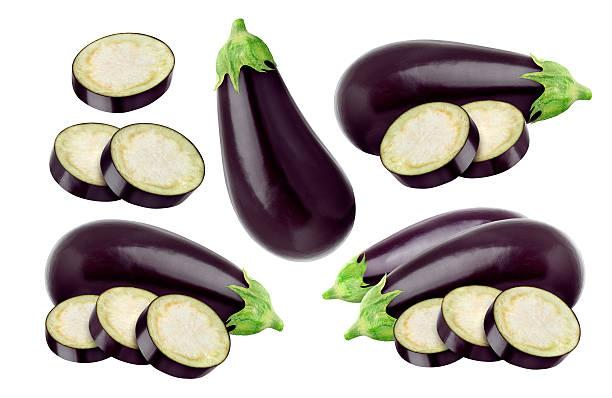Brinjal: (212, 12, 354, 258)
